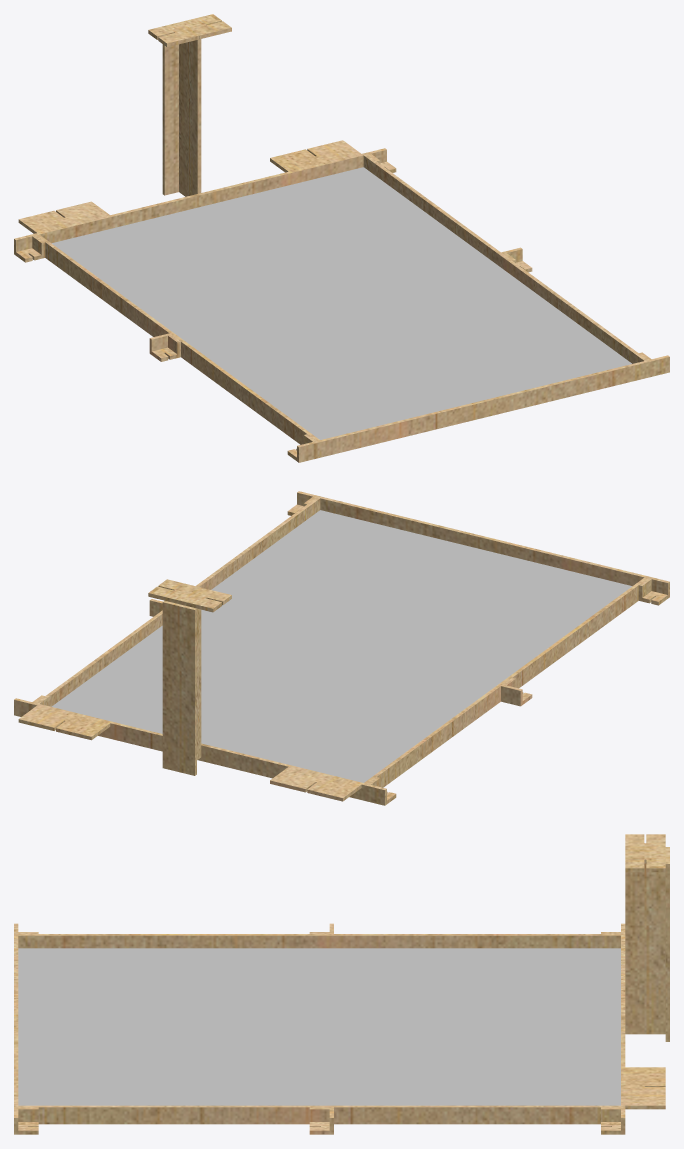
Rendered from table.dae.
3 views of the same model, one above another, from view 1: azimuth 30°, elevation 25°; view 2: azimuth 150°, elevation 25°; view 3: azimuth 270°, elevation 25° (orthographic). The views are drawn at different scales.
Parts seen in each view (by area): view 1: table; view 2: table; view 3: table.
Boxes of the visible parts, <box> form: table: <box>14,14,669,462</box>; table: <box>14,491,669,805</box>; table: <box>14,834,669,1134</box>.
Bounding box in the file's own units: 2.29 × 3.27 × 1.02.
